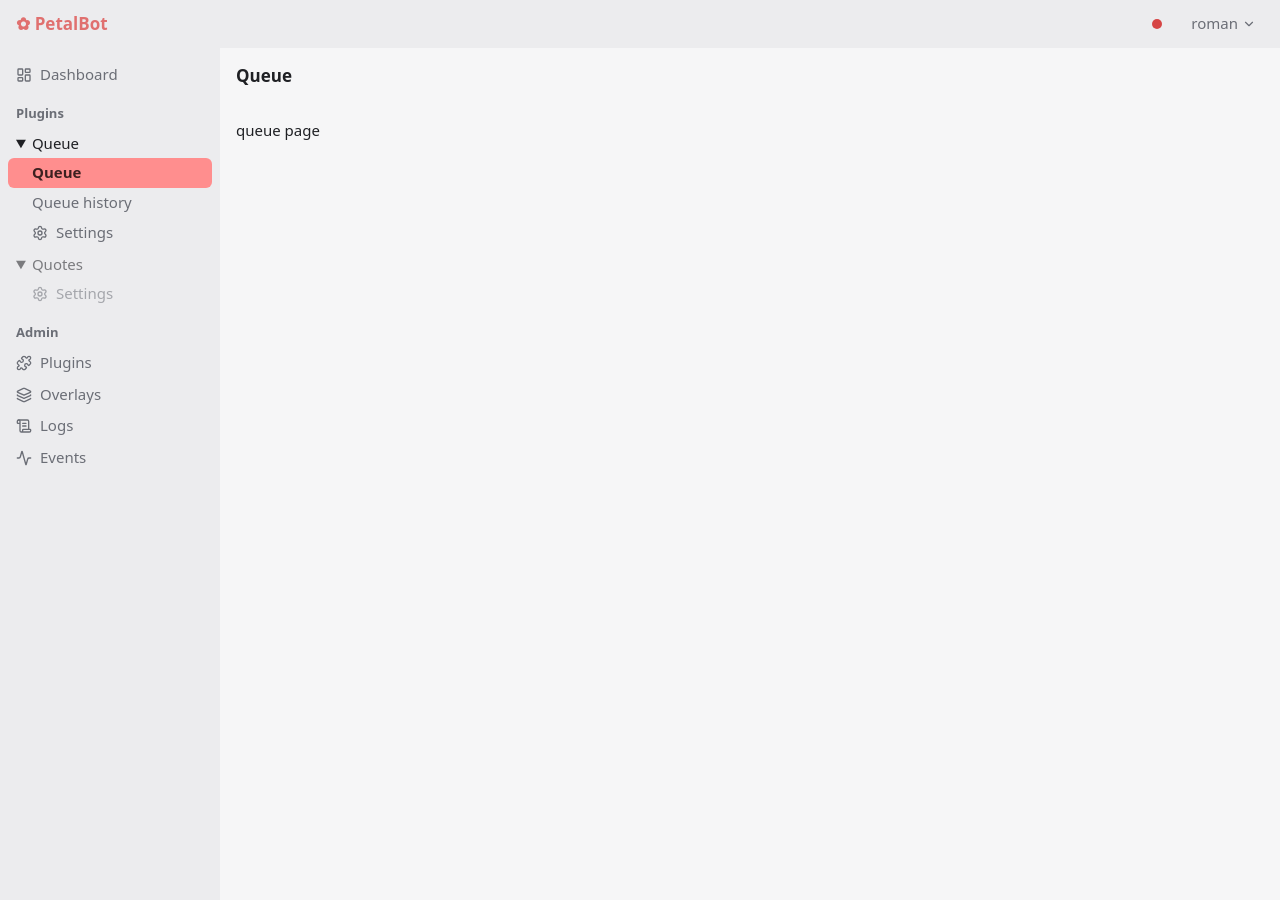
Test case: top bar › lists plugin problems in the health popover
Click the button named "1 plugin needs attention" at [1157, 24], box [1143,10,1171,38]
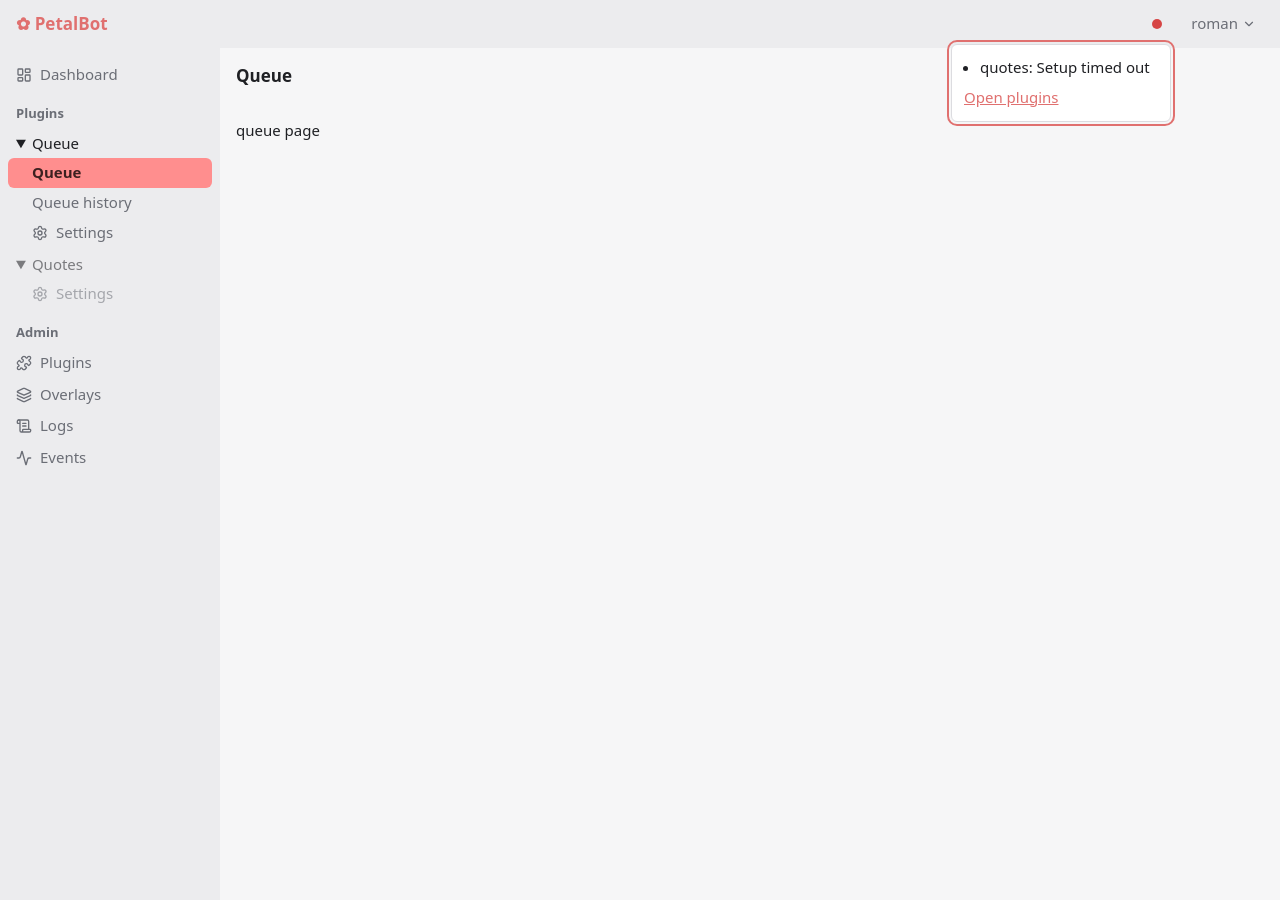
expect the list item "quotes: Setup timed out" is shown: met, box [980,57,1158,79]
